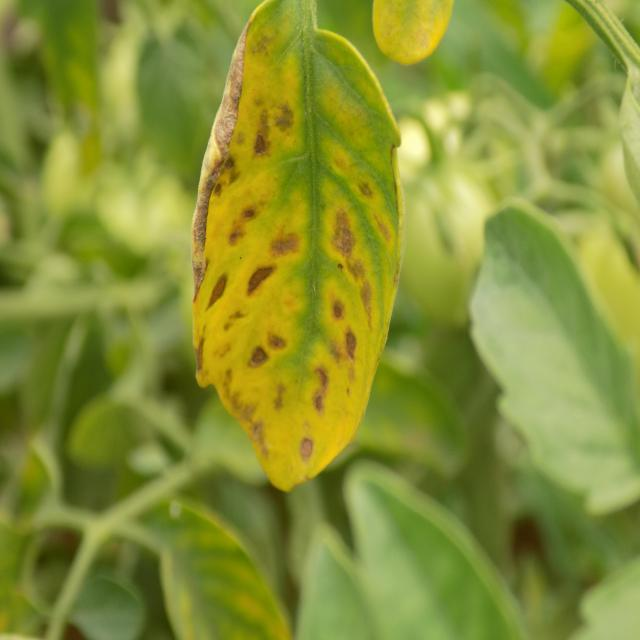tomato_early blight: (190, 2, 404, 492)
